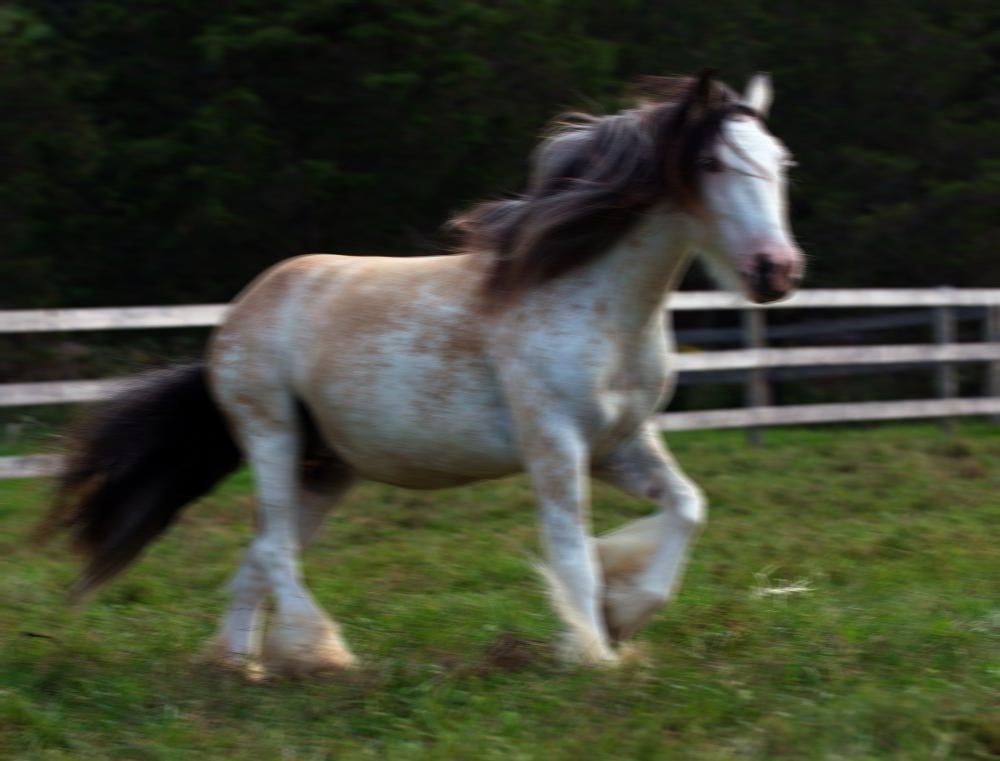horse: (22, 64, 806, 685)
